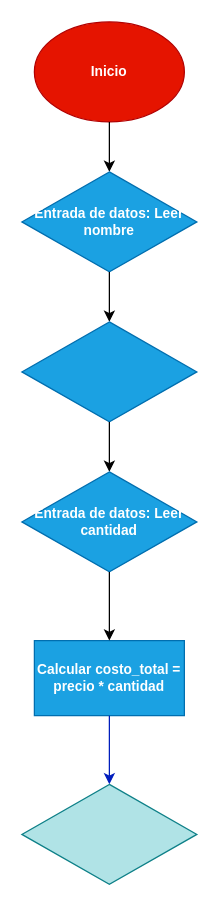
The diagram is 219 pixels wide and 906 high, and some of its shapes have lost their labels. Here are the shapes that lost their labels. From the top down, the centre of each, then its label:
At point (109, 371): "Entrada de datos: Leer precio".
At point (109, 833): "Mostrar resultados".
